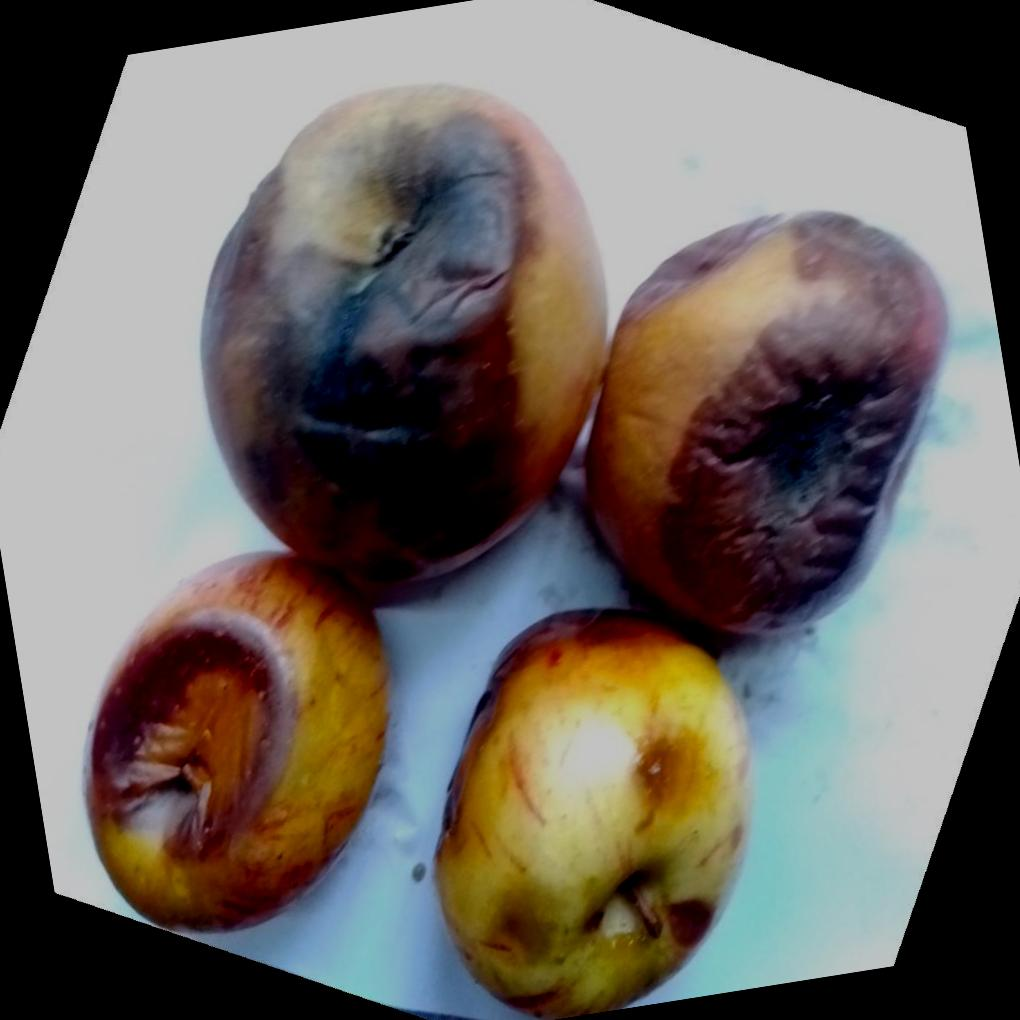FreshOrange: (84, 84, 947, 1020)
